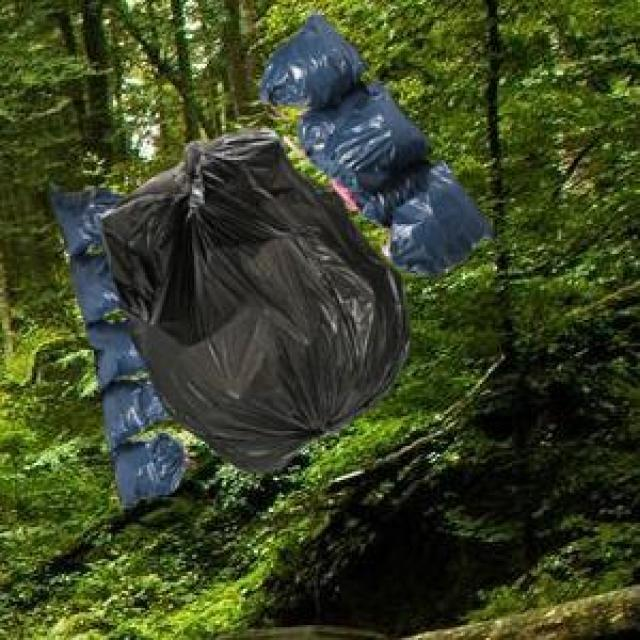Trashbag: (358, 161, 488, 273), (309, 90, 433, 184), (262, 17, 374, 111), (105, 426, 198, 515), (47, 178, 133, 259), (98, 380, 160, 445), (86, 319, 146, 382), (71, 249, 120, 326)
